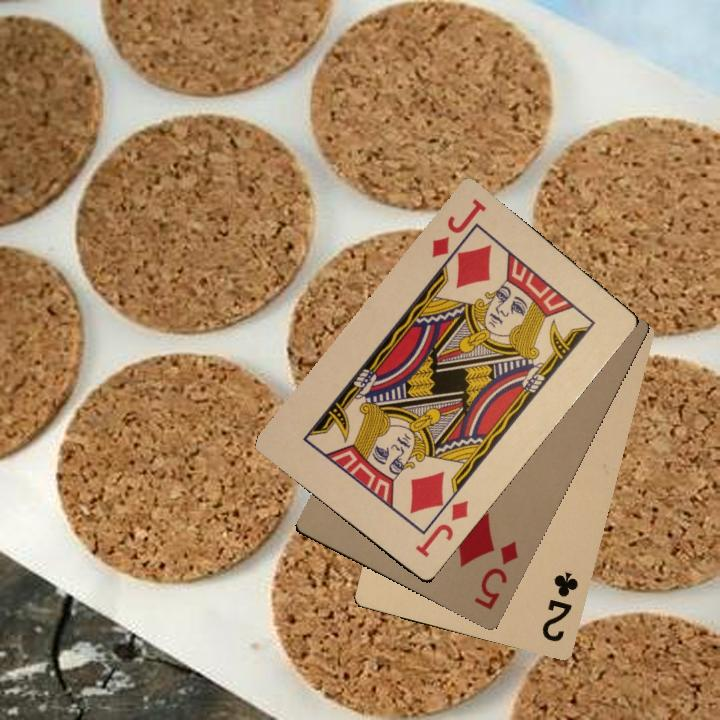2c: (538, 567, 581, 645)
5d: (470, 537, 521, 613)
Jd: (425, 195, 489, 261), (410, 496, 471, 560)
